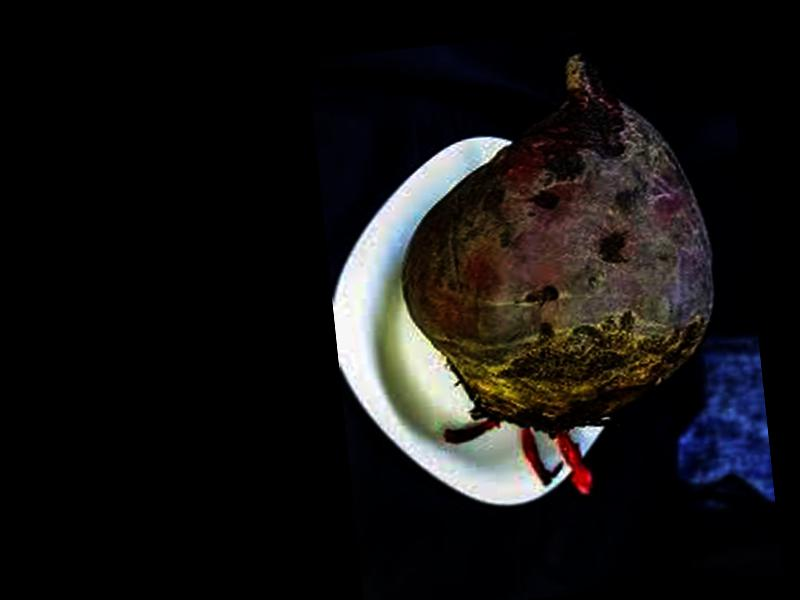Beet: (382, 44, 731, 511)
